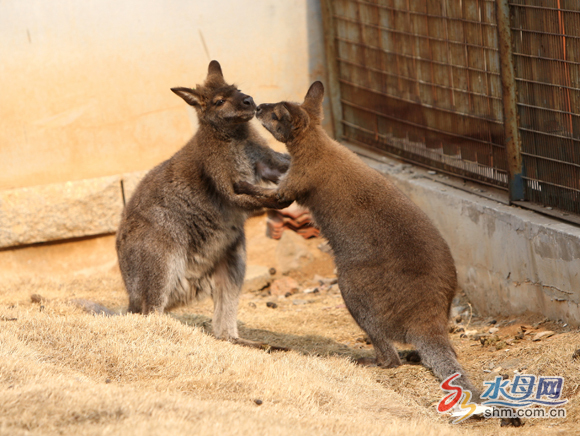kangaroo: (238, 80, 526, 427), (72, 59, 299, 353)
